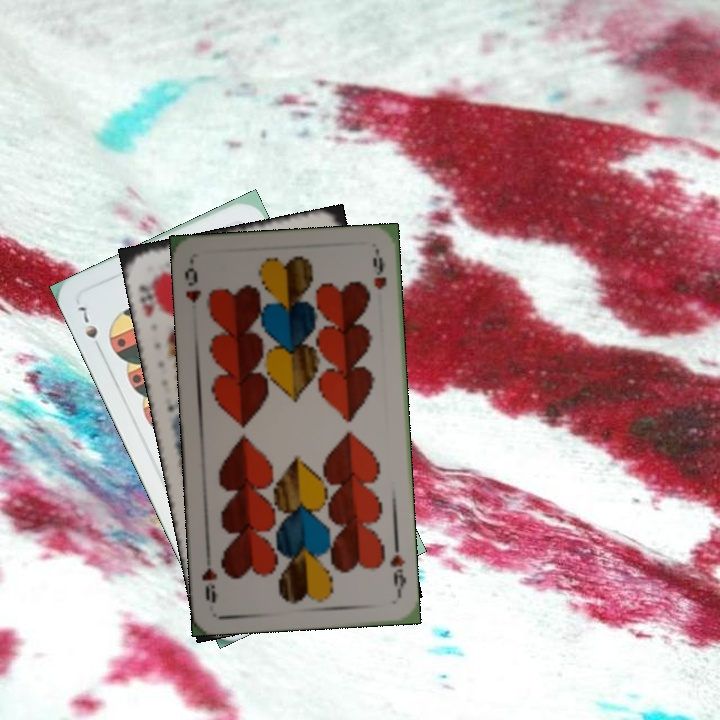H9: (385, 551, 409, 598), (181, 264, 204, 306)
HK: (134, 272, 159, 318)
S7: (73, 302, 100, 342)
